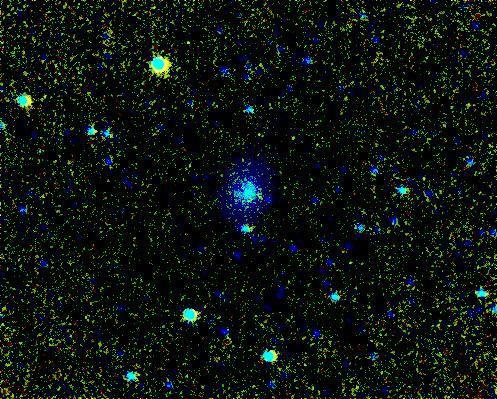star: (251, 183, 281, 213)
